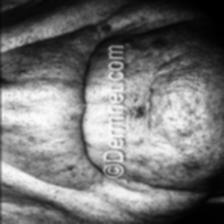Toxin: (132, 30, 210, 168), (0, 42, 56, 179)
